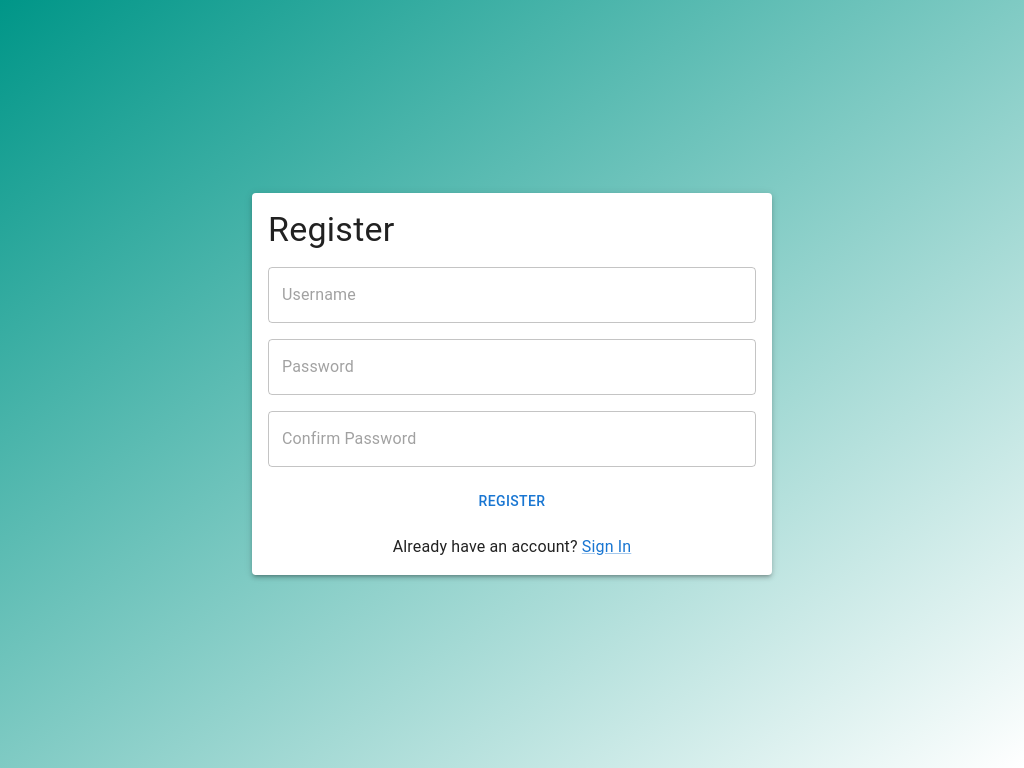
Scenario: that user is warned of password mismatches
This screenshot has width=1024, height=768.
In the field with placeholder "Username": (512, 295) [268, 267, 756, 323], type "test"
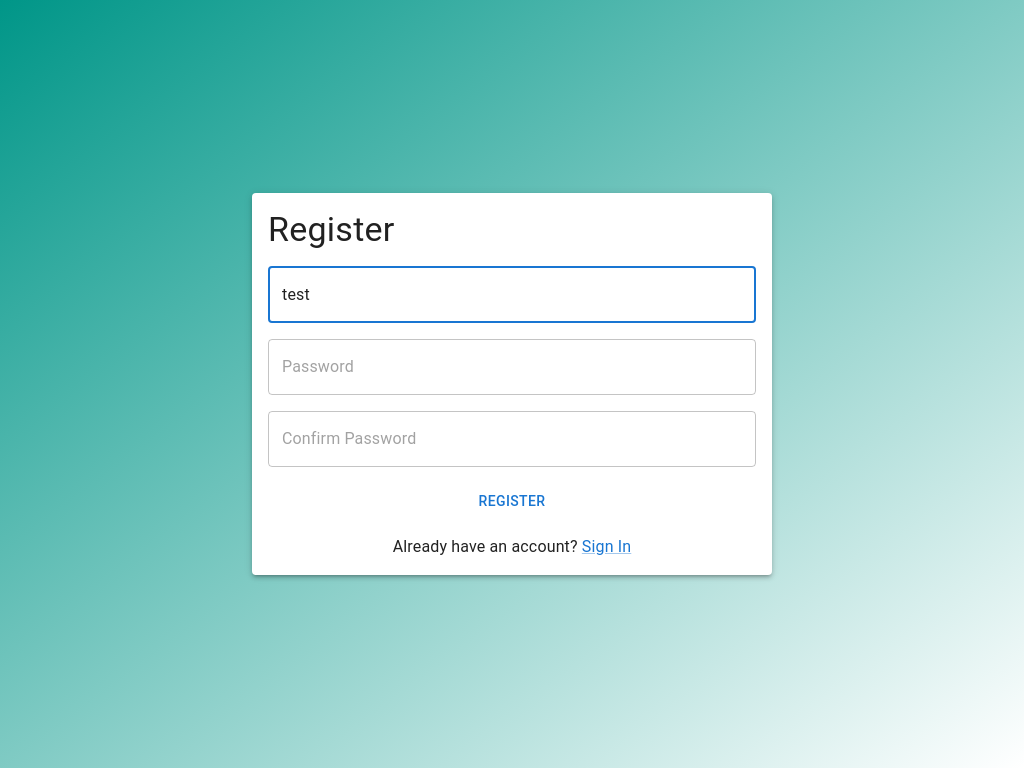
In the password field with placeholder "Password": (512, 367) [268, 339, 756, 395], type "test"
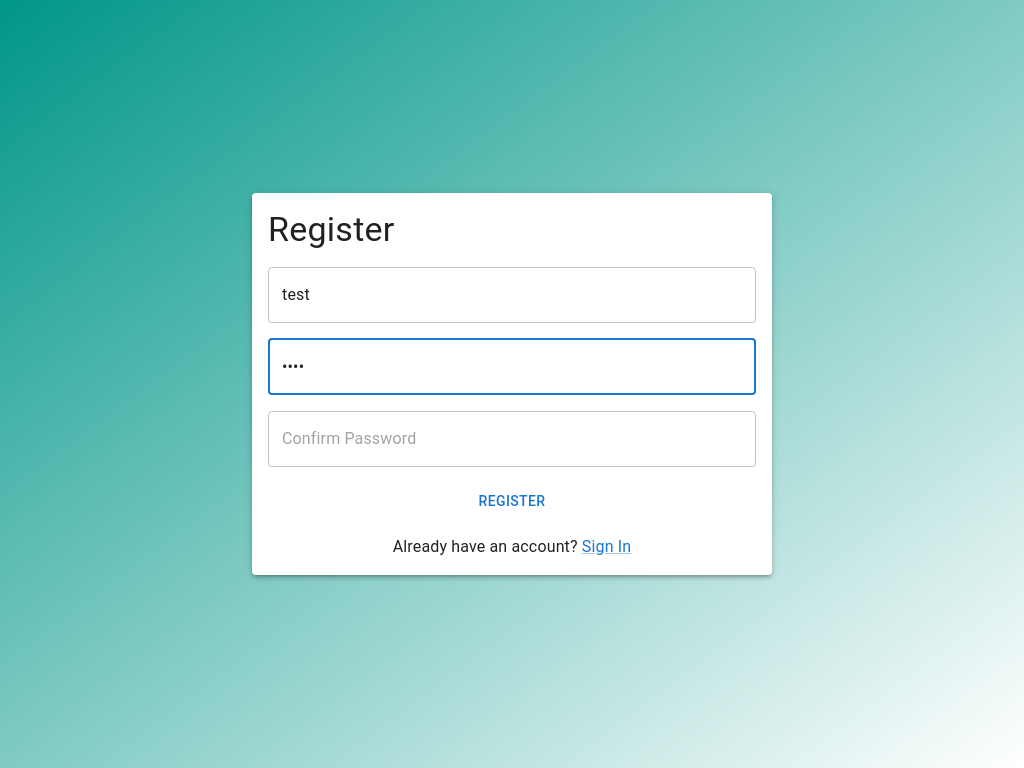
In the password field with placeholder "Confirm Password": (512, 439) [268, 411, 756, 467], type "test2"
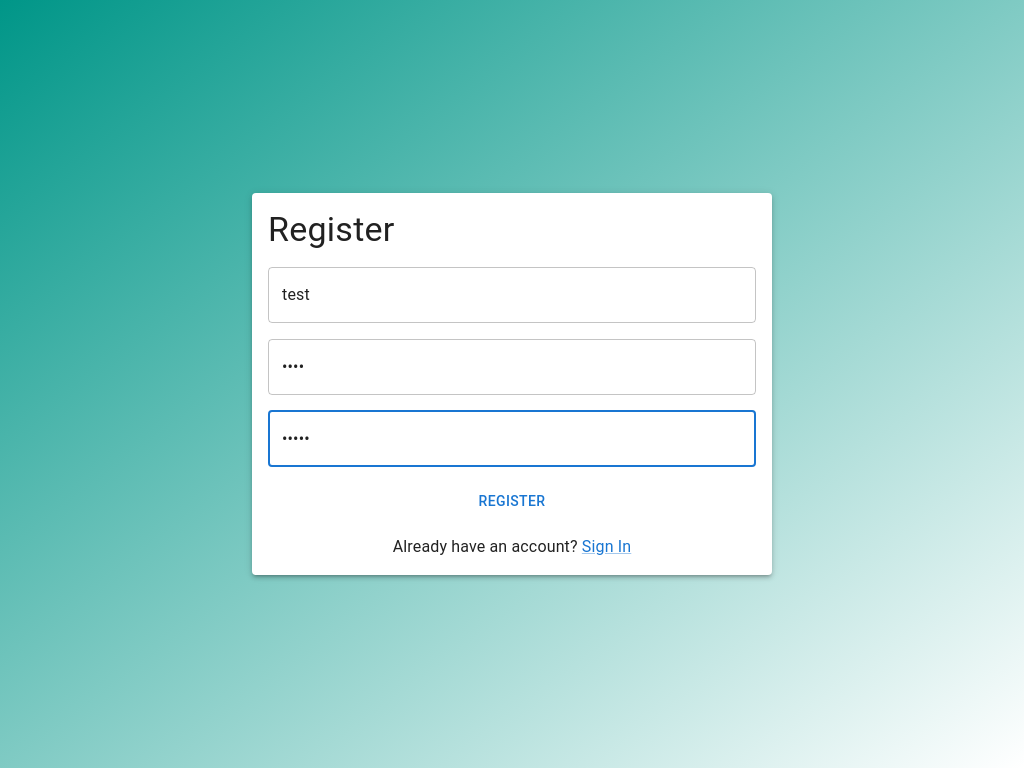
Click the button with test id "registerButton": (512, 501) [268, 483, 756, 519]
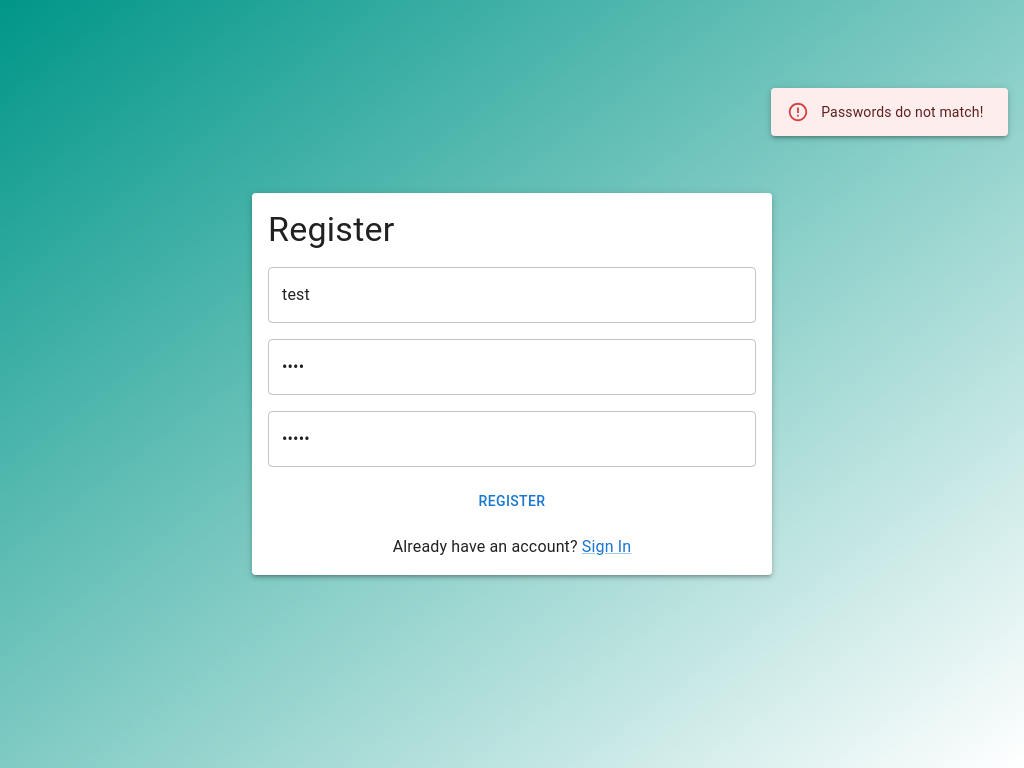
Expected: the text "Passwords do not match!" is shown, [821, 104, 983, 120]
